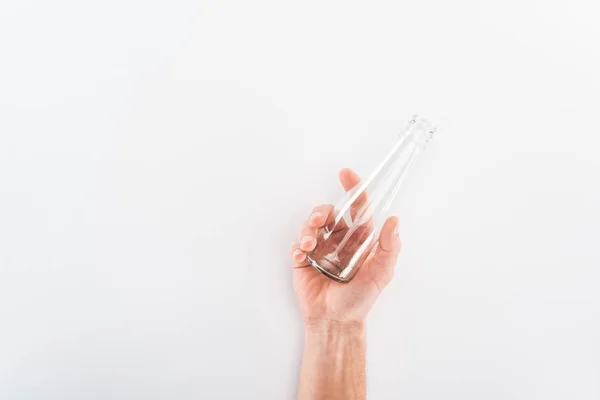glass_bottle: (302, 103, 440, 287)
